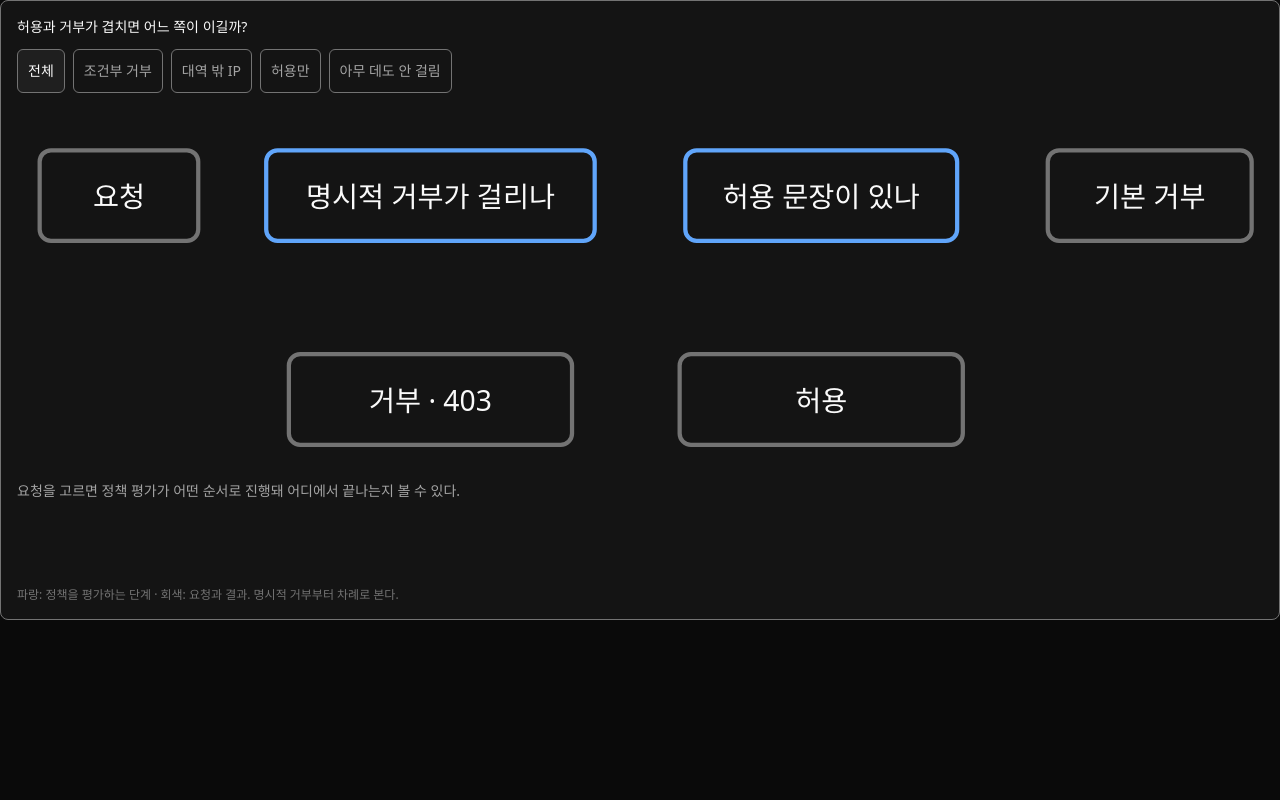
Test: PolicyEvaluationDiagram › 장면을 바꾸면 이전 경로·곁말이 사라지고 전체를 누르면 초기 상태로 돌아온다
Click the button "조건부 거부": click(118, 71) [73,49,163,93]
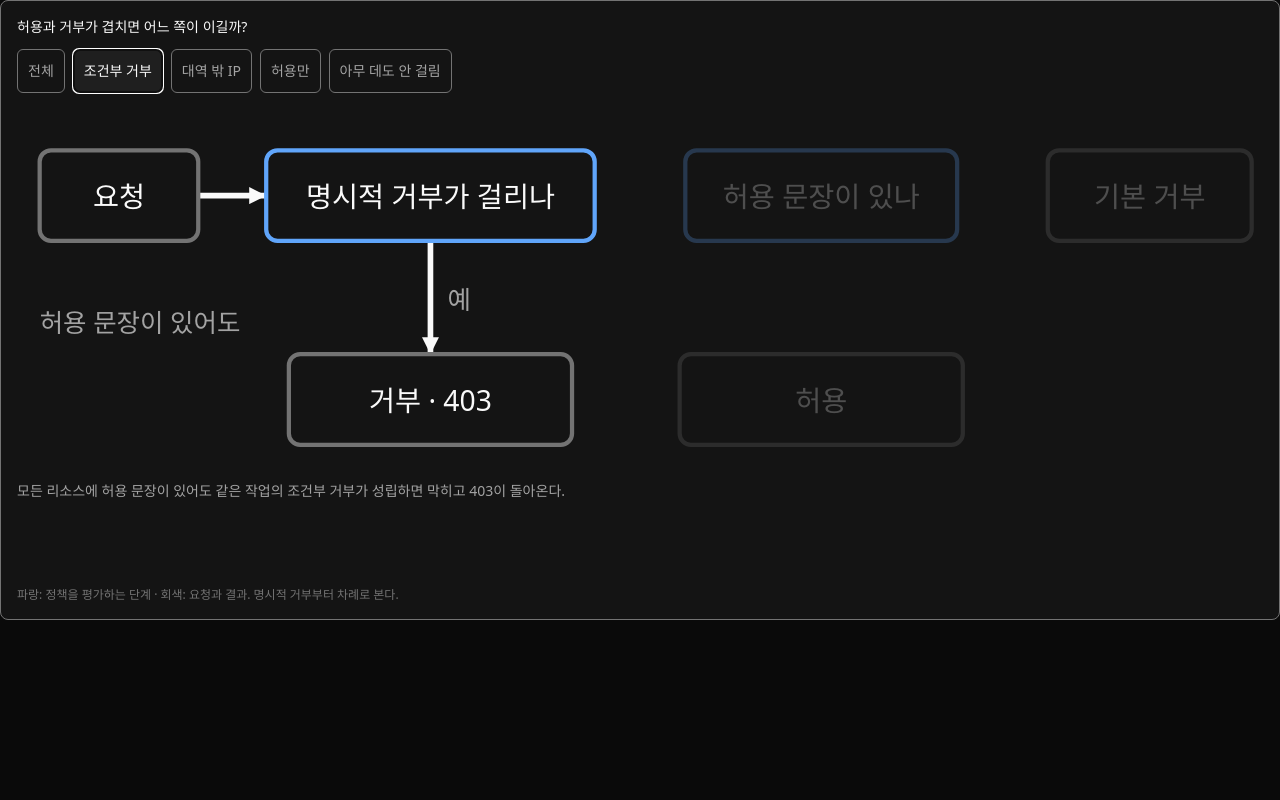
Click the button "대역 밖 IP": click(211, 71) [171,49,252,93]
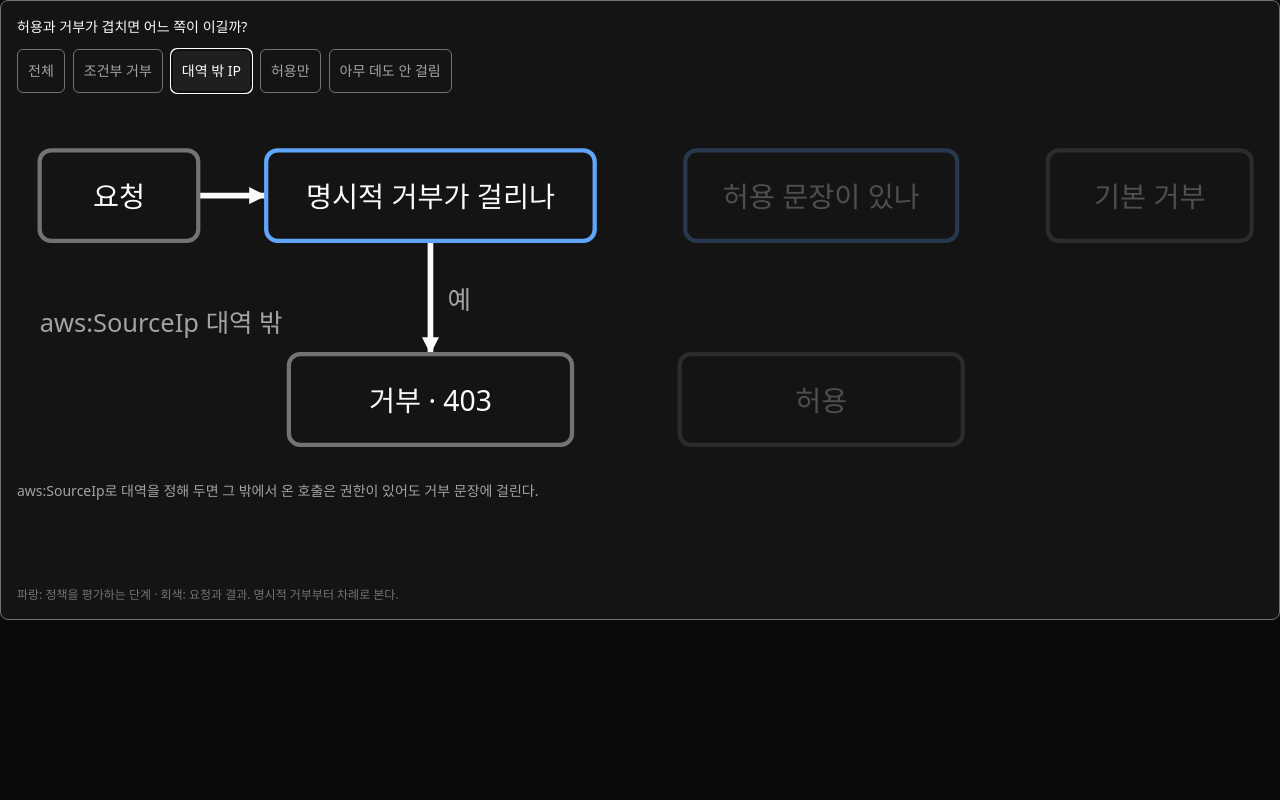
Click the button "허용만": click(290, 71) [260,49,321,93]
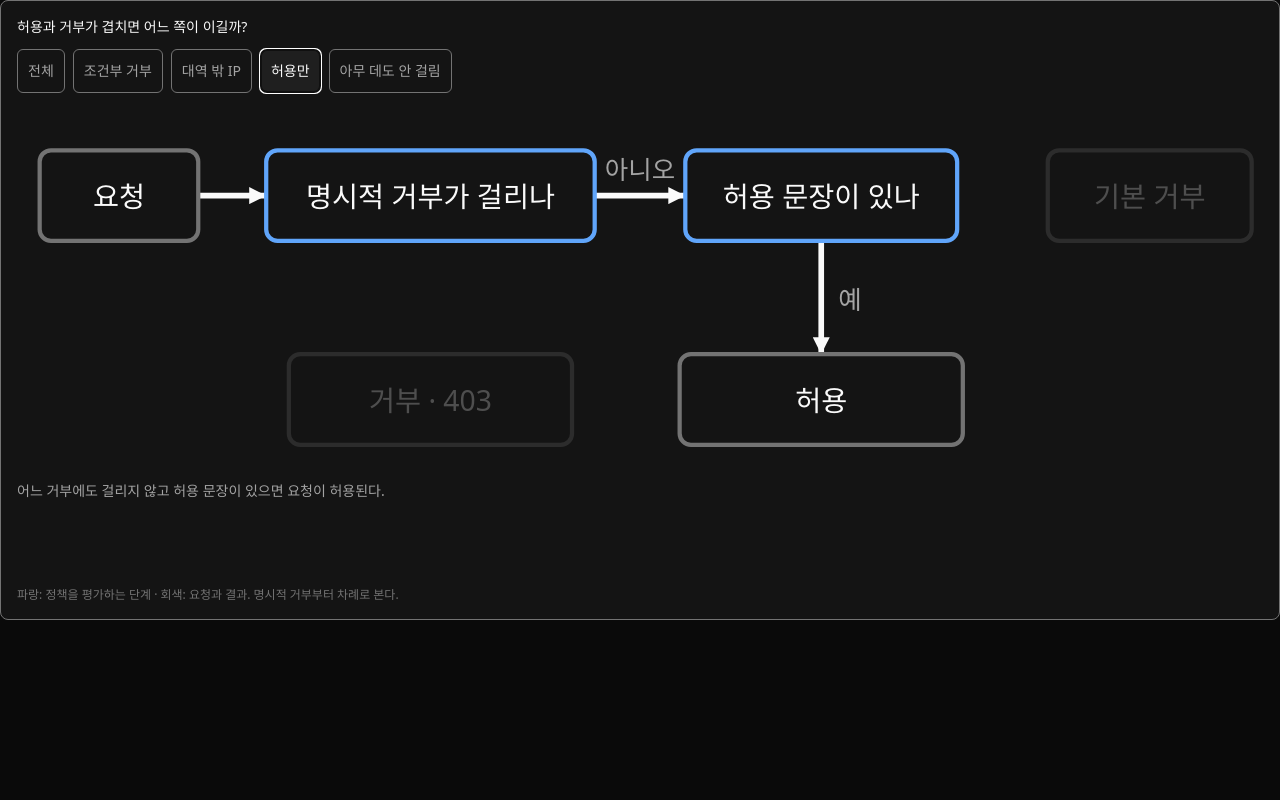
Click the button "아무 데도 안 걸림": click(390, 71) [329,49,452,93]
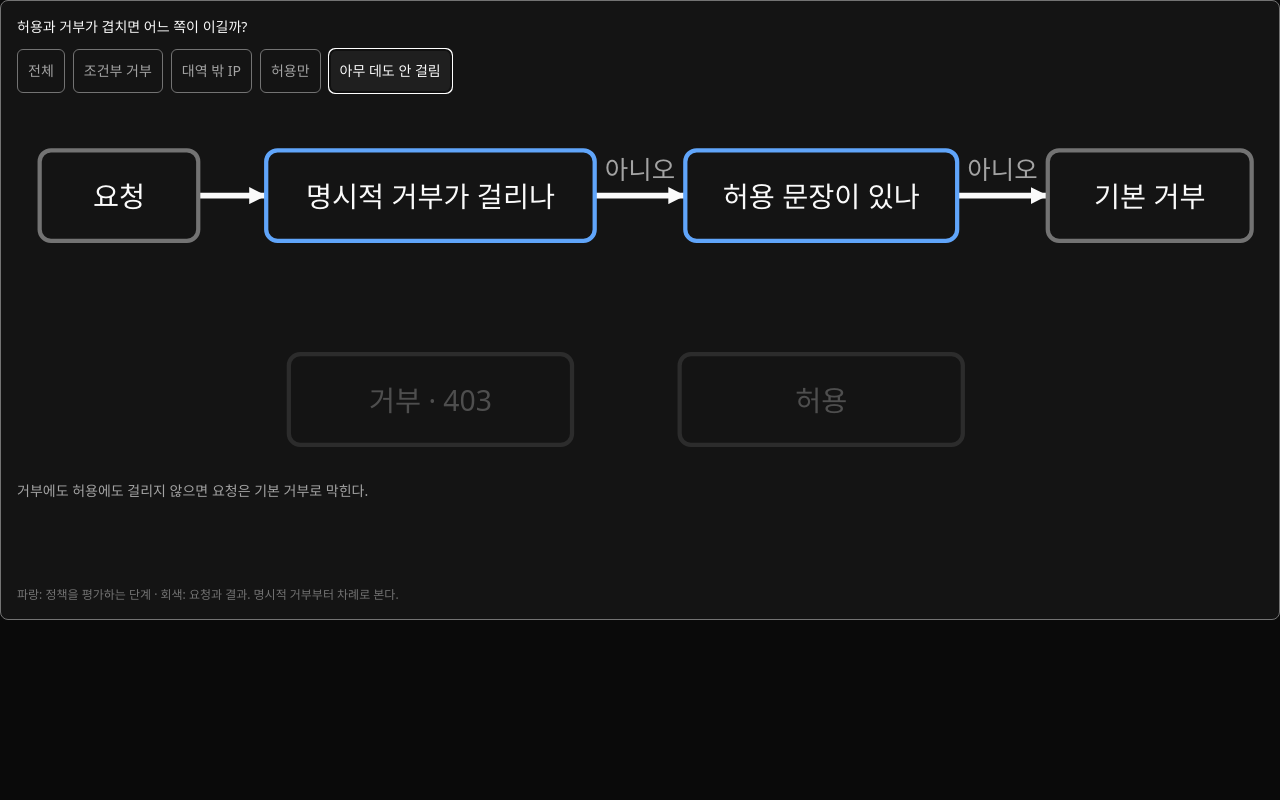
Click the button "조건부 거부": click(118, 71) [73,49,163,93]
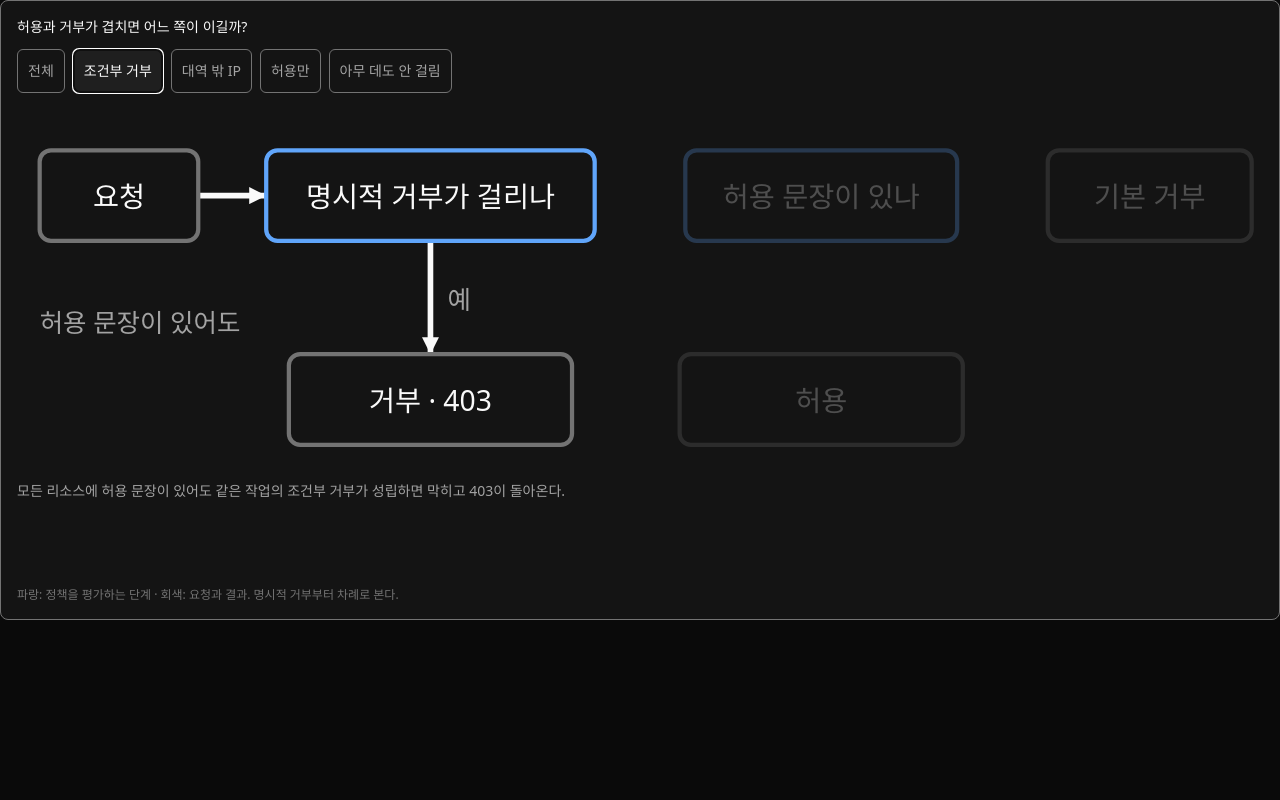
Click the button "전체": click(41, 71) [17,49,65,93]
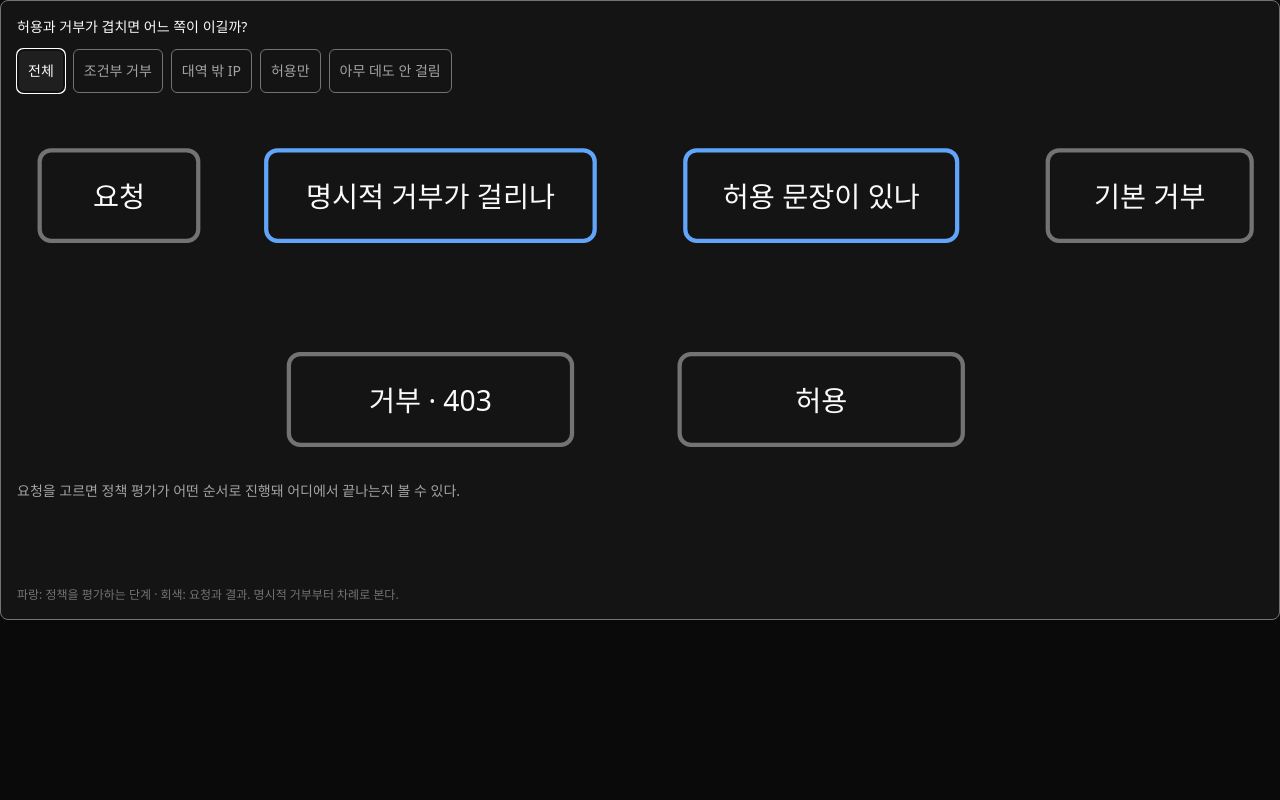
Now the text "요청을 고르면 정책 평가가 어떤 순서로 진행돼 어디에서 끝나는지 볼 수 있다." is shown, box [17,482,460,500]
